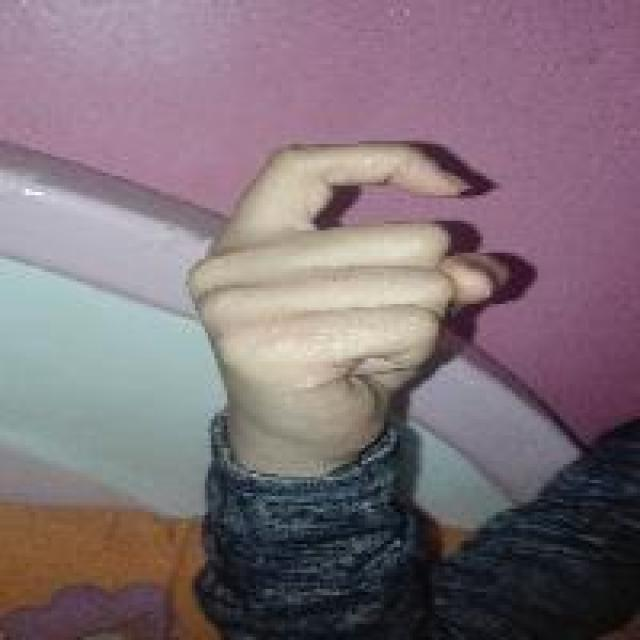X: (192, 138, 525, 454)
